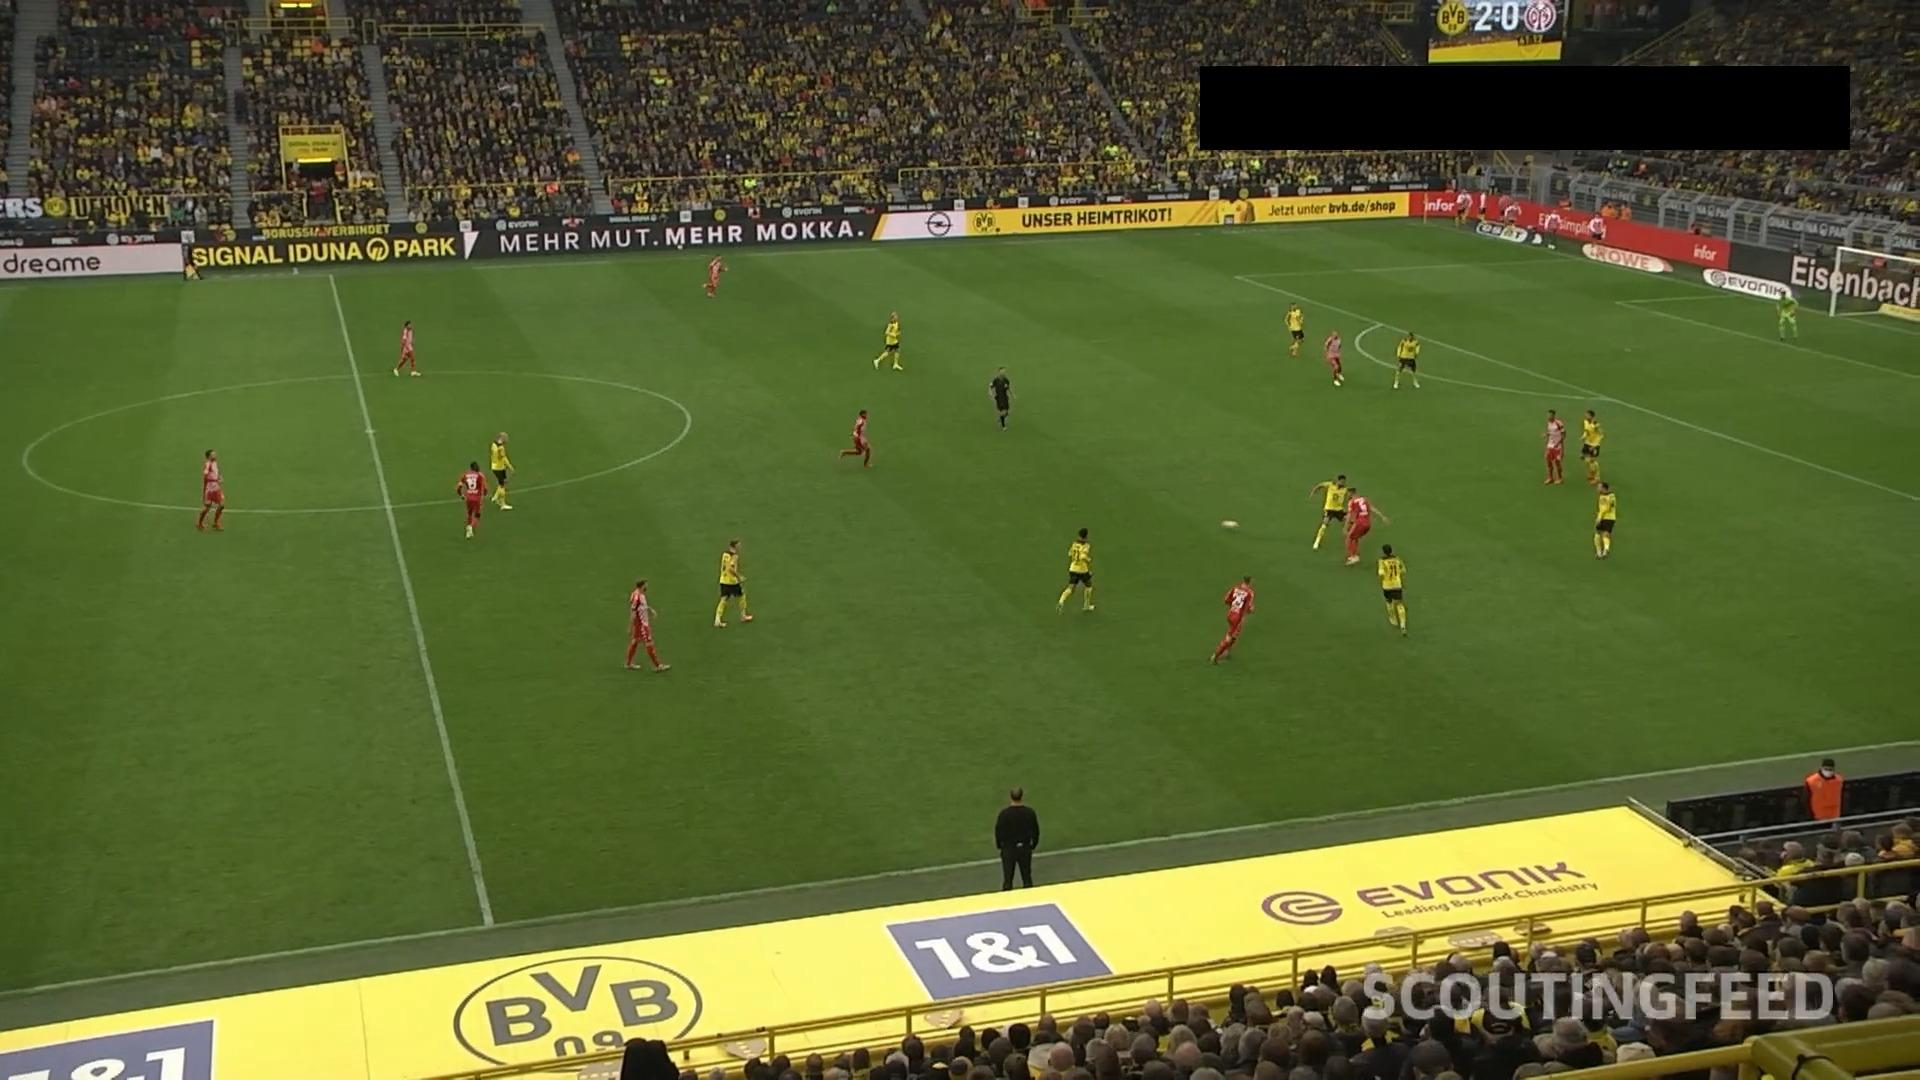ball: (1220, 517, 1240, 534)
